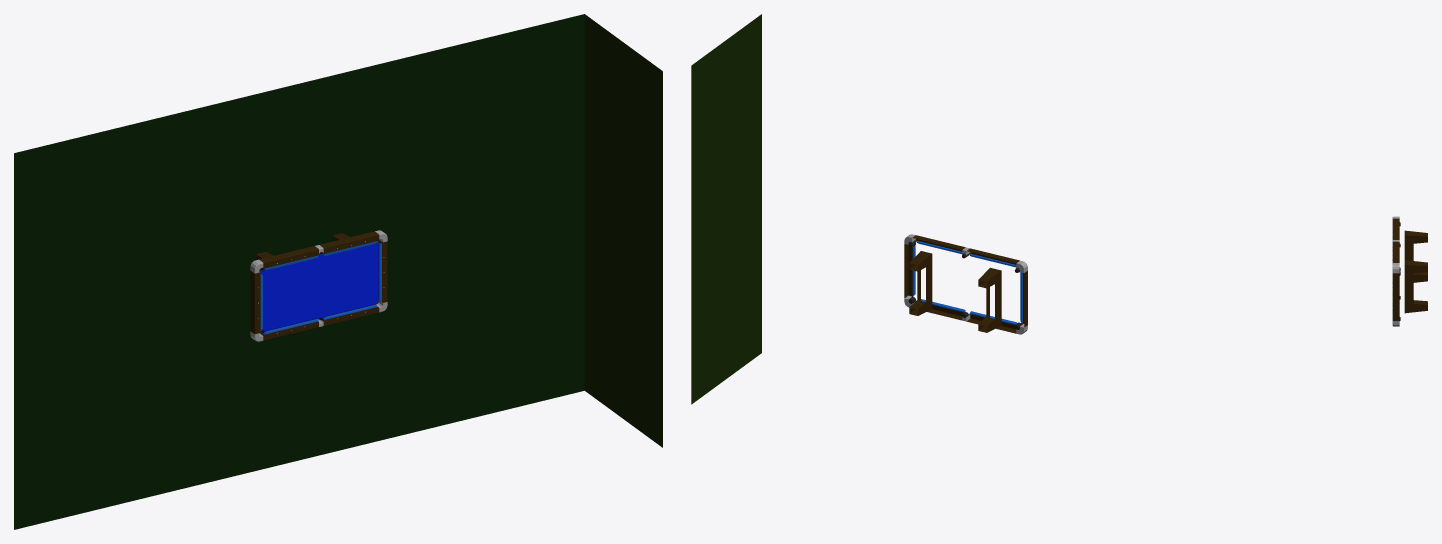
File: tableTest.gltf
The picture shows the model from 3 angles, left to right: view 1: azimuth 30°, elevation 25°; view 2: azimuth 150°, elevation 25°; view 3: azimuth 270°, elevation 25°; orthographic projection. The views are drawn at different scales.
Visible parts, largest first — view 1: Room, northwall, FullCloth, SideRail, EndRail; view 2: northwall, Legs, SideRail, EndRail; view 3: Legs, EndRail, SideRail.
Part boxes in pixels (x1,y1,x2,y2): Room: (14,14,584,529); northwall: (584,14,662,447); FullCloth: (260,243,380,333); SideRail: (259,231,379,340); EndRail: (250,241,387,333); northwall: (691,14,761,404); Legs: (909,251,1001,332); SideRail: (912,235,1019,333); EndRail: (904,244,1027,327); Legs: (1404,230,1427,313); EndRail: (1392,273,1399,320); SideRail: (1392,218,1399,262).
Size of the model in its own units: 215 by 136 by 51.36.
